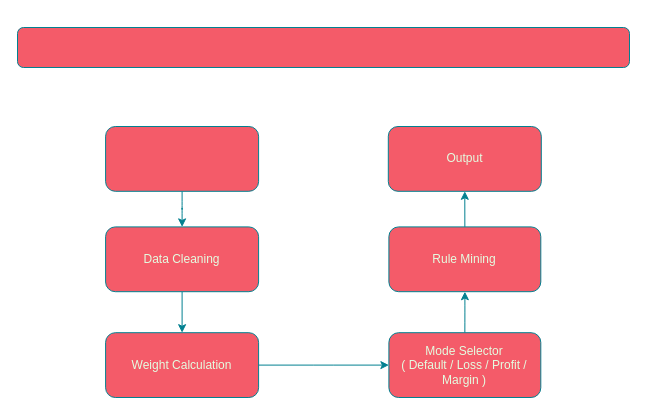
Some shapes in this 647 by 415 pixel diagram are drawn without their labels. The box of each missing label's shape, as (x1, y1, x2, y2) in pixels:
Data Input: (105, 126, 259, 191)
Pipeline Diagram: (16, 26, 630, 68)
